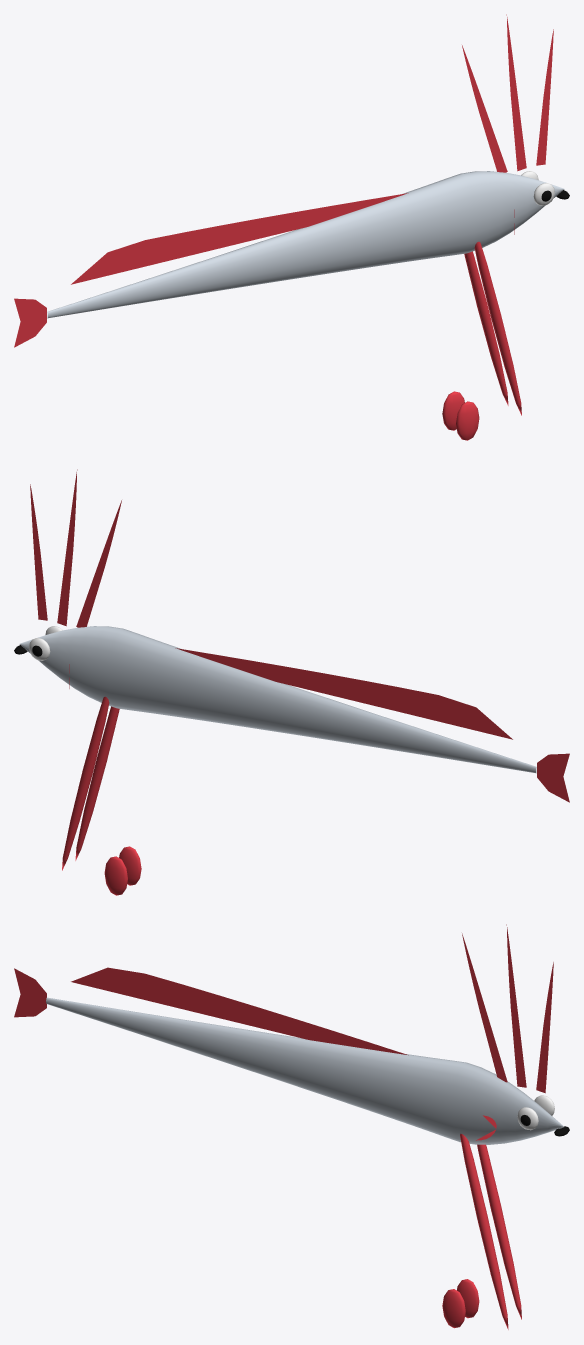
The model's file is oarfish.glb.
The picture shows the model from 3 angles, top to bottom: view 1: azimuth 30°, elevation 25°; view 2: azimuth 150°, elevation 25°; view 3: azimuth 330°, elevation 25°; orthographic projection.
Parts seen in each view (by area): view 1: oarfish; view 2: oarfish; view 3: oarfish.
Part boxes in pixels (x1,y1,x2,y2): oarfish: [14, 14, 569, 440]; oarfish: [14, 469, 569, 895]; oarfish: [14, 924, 569, 1329].
Size of the model in its own units: 2.35 by 1.67 by 0.2884.
